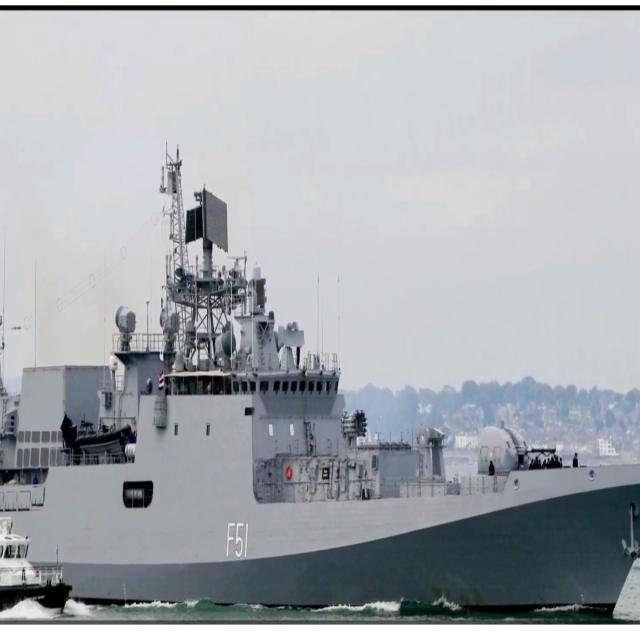OCR: (223, 514, 257, 567)
